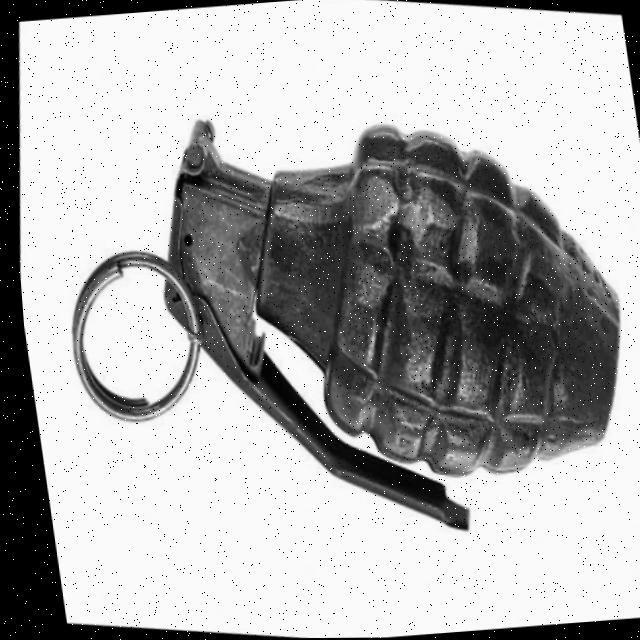grenade: (18, 70, 640, 586)
